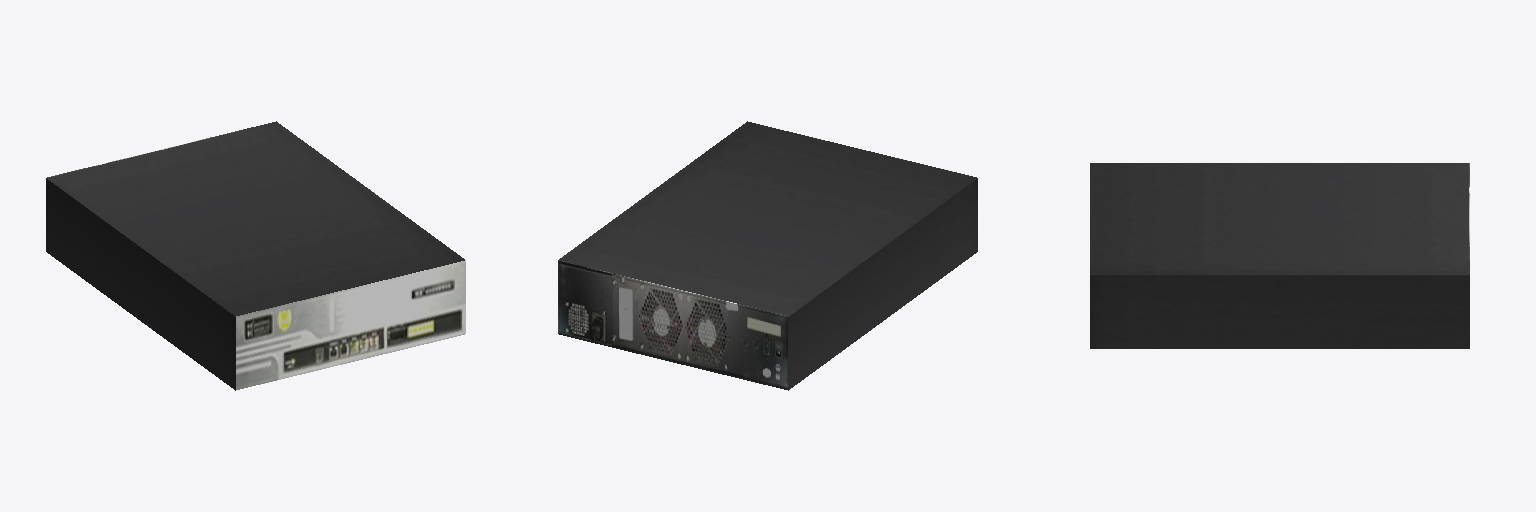
The picture shows the model from 3 angles: view 1: azimuth 30°, elevation 25°; view 2: azimuth 150°, elevation 25°; view 3: azimuth 270°, elevation 25°; orthographic projection.
Parts seen in each view (by area): view 1: Box001; view 2: Box001; view 3: Box001.
Boxes of the visible parts, box(x1,y1,x2,y2) form: Box001: box(46, 121, 465, 390); Box001: box(558, 121, 977, 390); Box001: box(1090, 163, 1469, 348).
Size of the model in its own units: 36.78 by 11.26 by 52.4.
Materials: 1 (1 with a texture image).